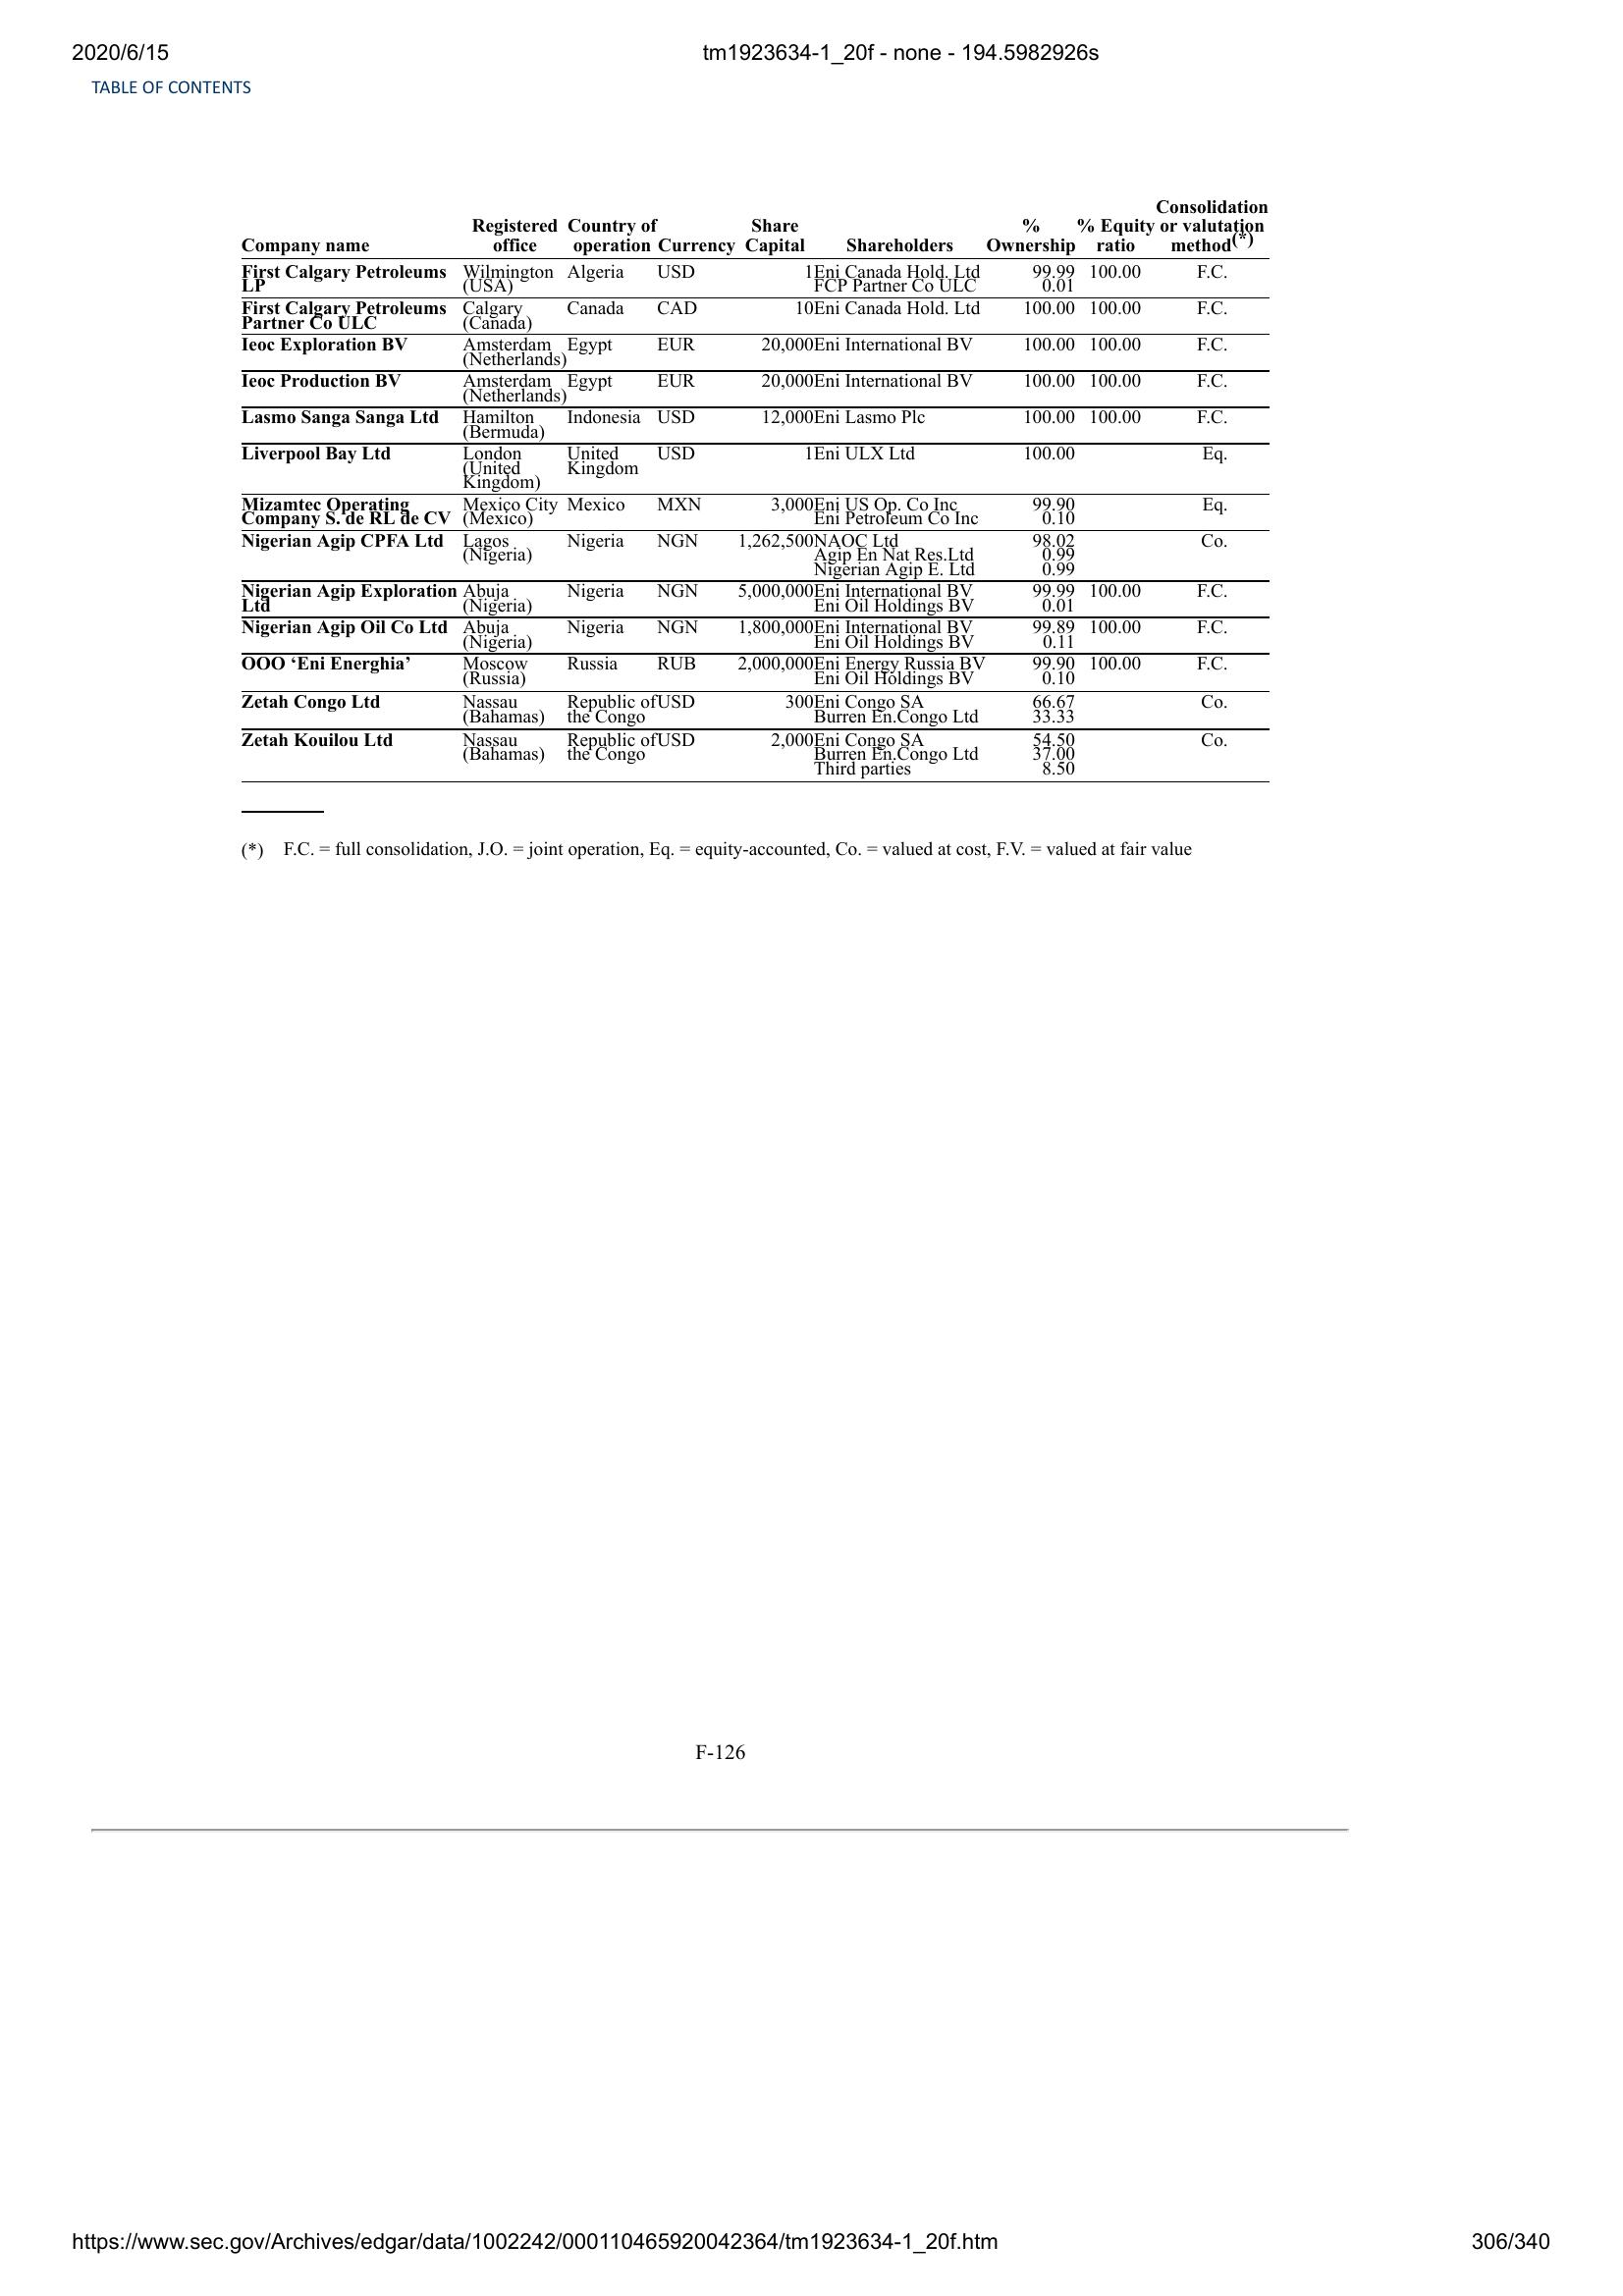table: (237, 195, 1279, 783)
